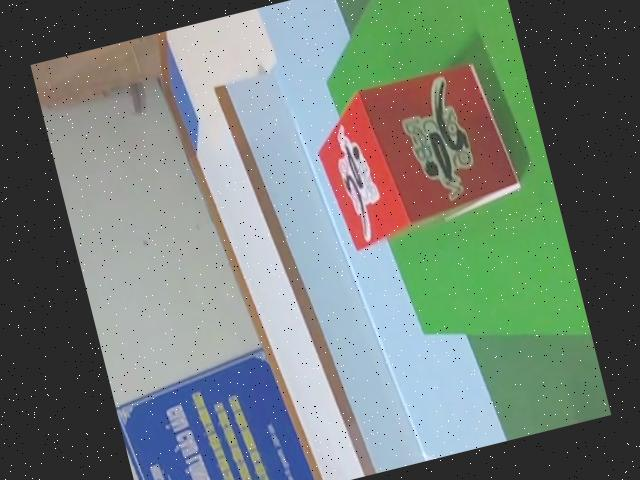R1: (300, 57, 523, 256)
